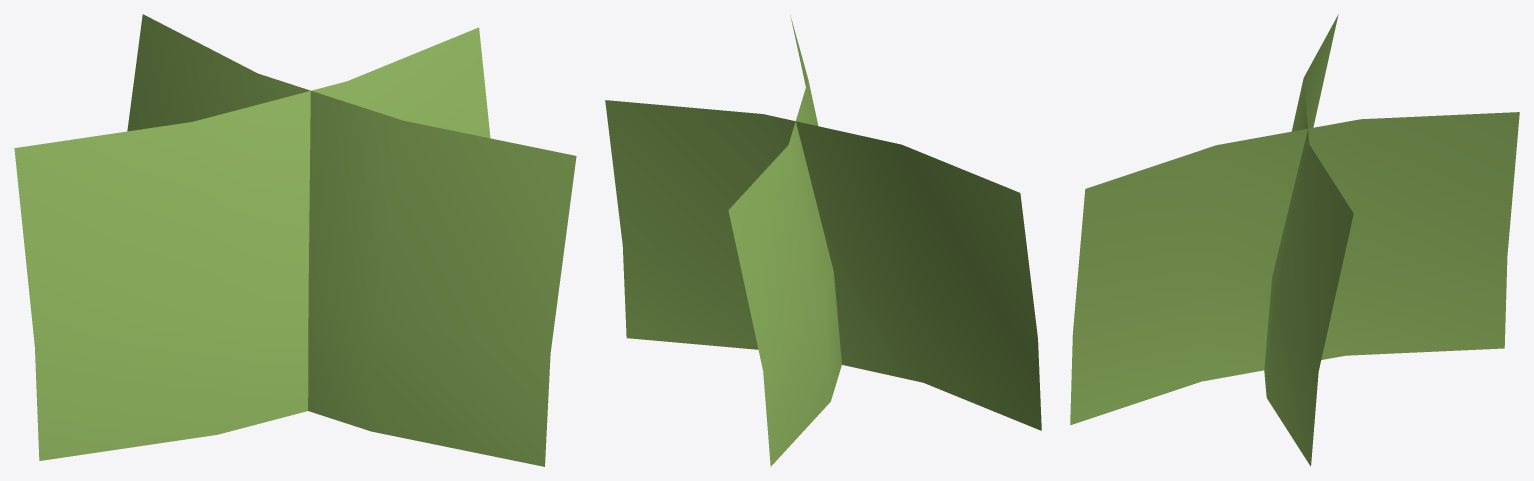
File: GrassPlanes_a_TwoS_05.fbx
The picture shows the model from 3 angles, left to right: view 1: azimuth 30°, elevation 25°; view 2: azimuth 150°, elevation 25°; view 3: azimuth 270°, elevation 25°; orthographic projection. The views are drawn at different scales.
Visible parts, largest first — view 1: GrassPlanes_a_TwoS_05; view 2: GrassPlanes_a_TwoS_05; view 3: GrassPlanes_a_TwoS_05.
Part boxes in pixels (bbox=[...]): GrassPlanes_a_TwoS_05: bbox=[14, 14, 576, 466]; GrassPlanes_a_TwoS_05: bbox=[605, 15, 1041, 466]; GrassPlanes_a_TwoS_05: bbox=[1070, 14, 1519, 466].
Bounding box in the file's own units: 99.66 × 60.05 × 95.34.
